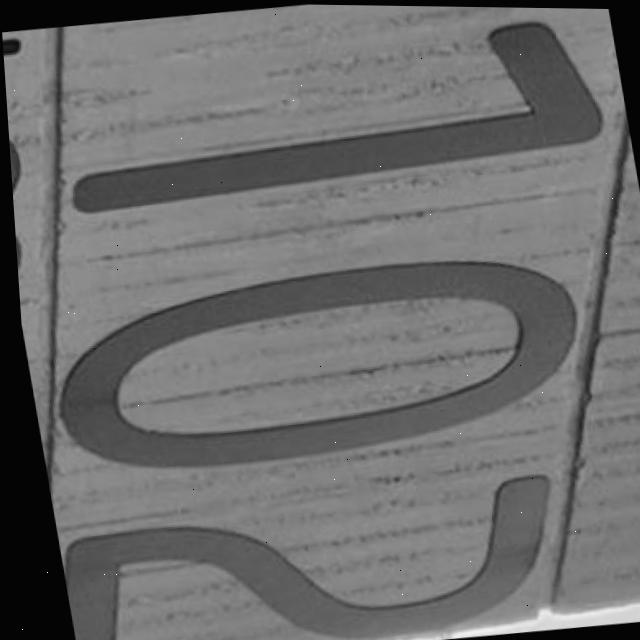character: (27, 234, 608, 497), (32, 3, 622, 232), (49, 460, 589, 640)
